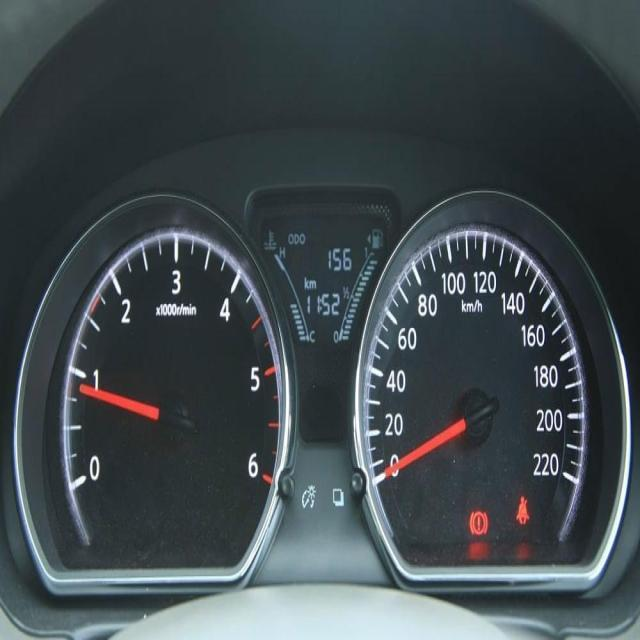Seat Belt: (516, 497, 529, 526)
